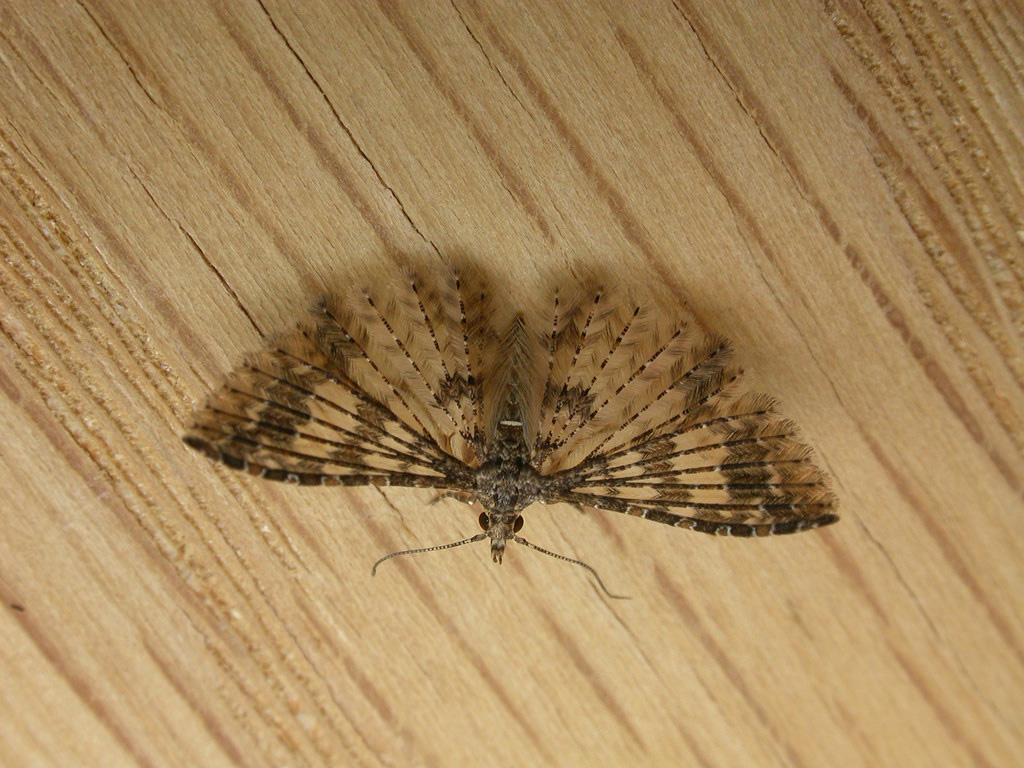Alucitidae: (180, 235, 851, 601)
moth: (182, 237, 853, 603)
